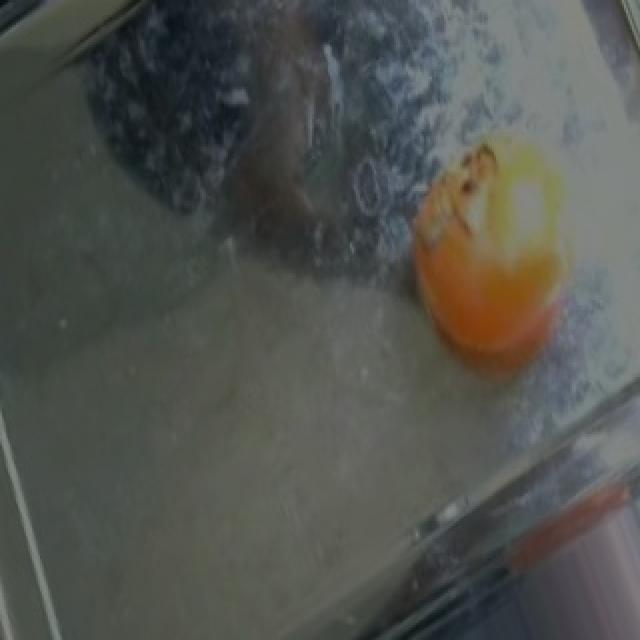Fruit: (382, 112, 604, 400)
